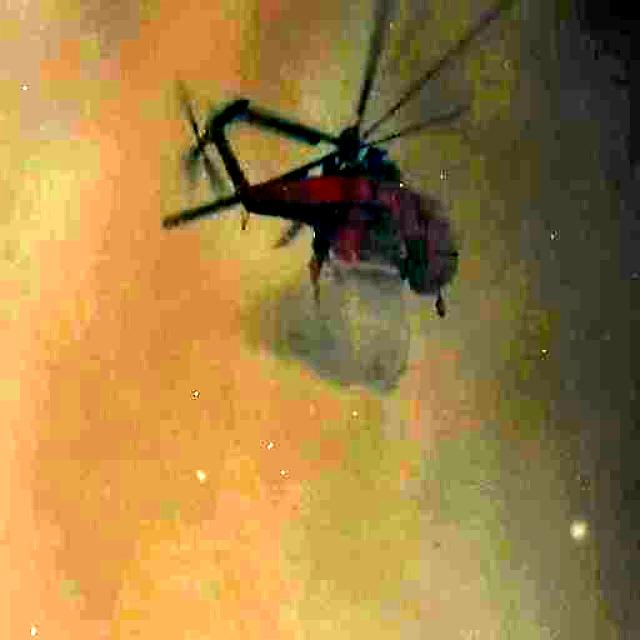drone: (168, 0, 476, 314)
